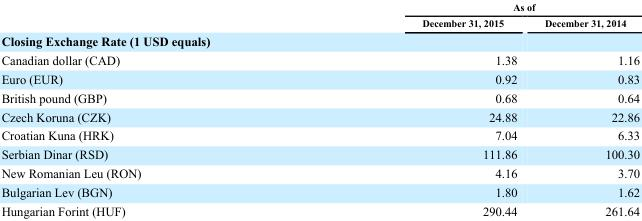table: (0, 0, 639, 217)
table column: (0, 0, 280, 217), (280, 0, 530, 217), (530, 0, 639, 217)
table column header: (0, 0, 639, 31)
table projected row header: (0, 31, 639, 49)
table row: (0, 49, 639, 68), (0, 68, 639, 87), (0, 87, 639, 106), (0, 106, 639, 125), (0, 125, 639, 144), (0, 144, 639, 163), (0, 163, 639, 182), (0, 182, 639, 201), (0, 31, 639, 49), (0, 14, 639, 31), (0, 201, 639, 217), (0, 0, 639, 14)
table spanning cell: (280, 0, 639, 14)
